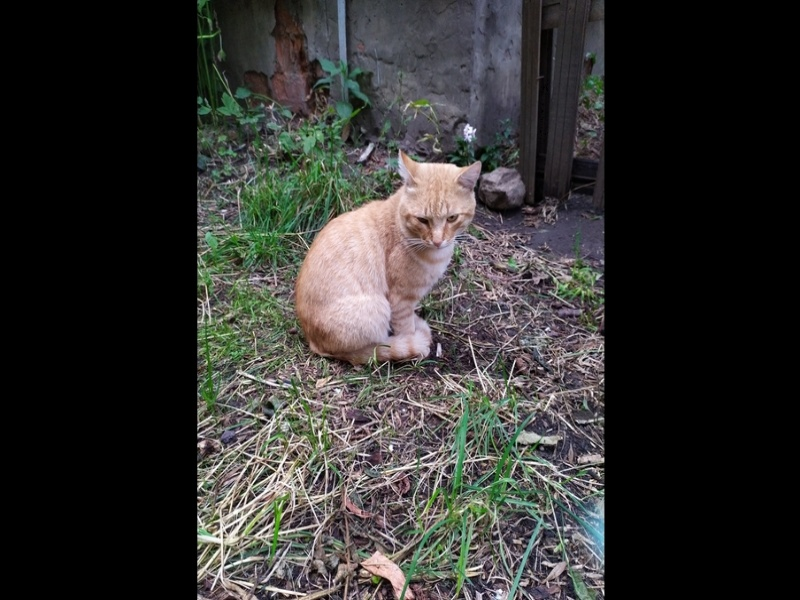cat: (292, 151, 486, 370)
